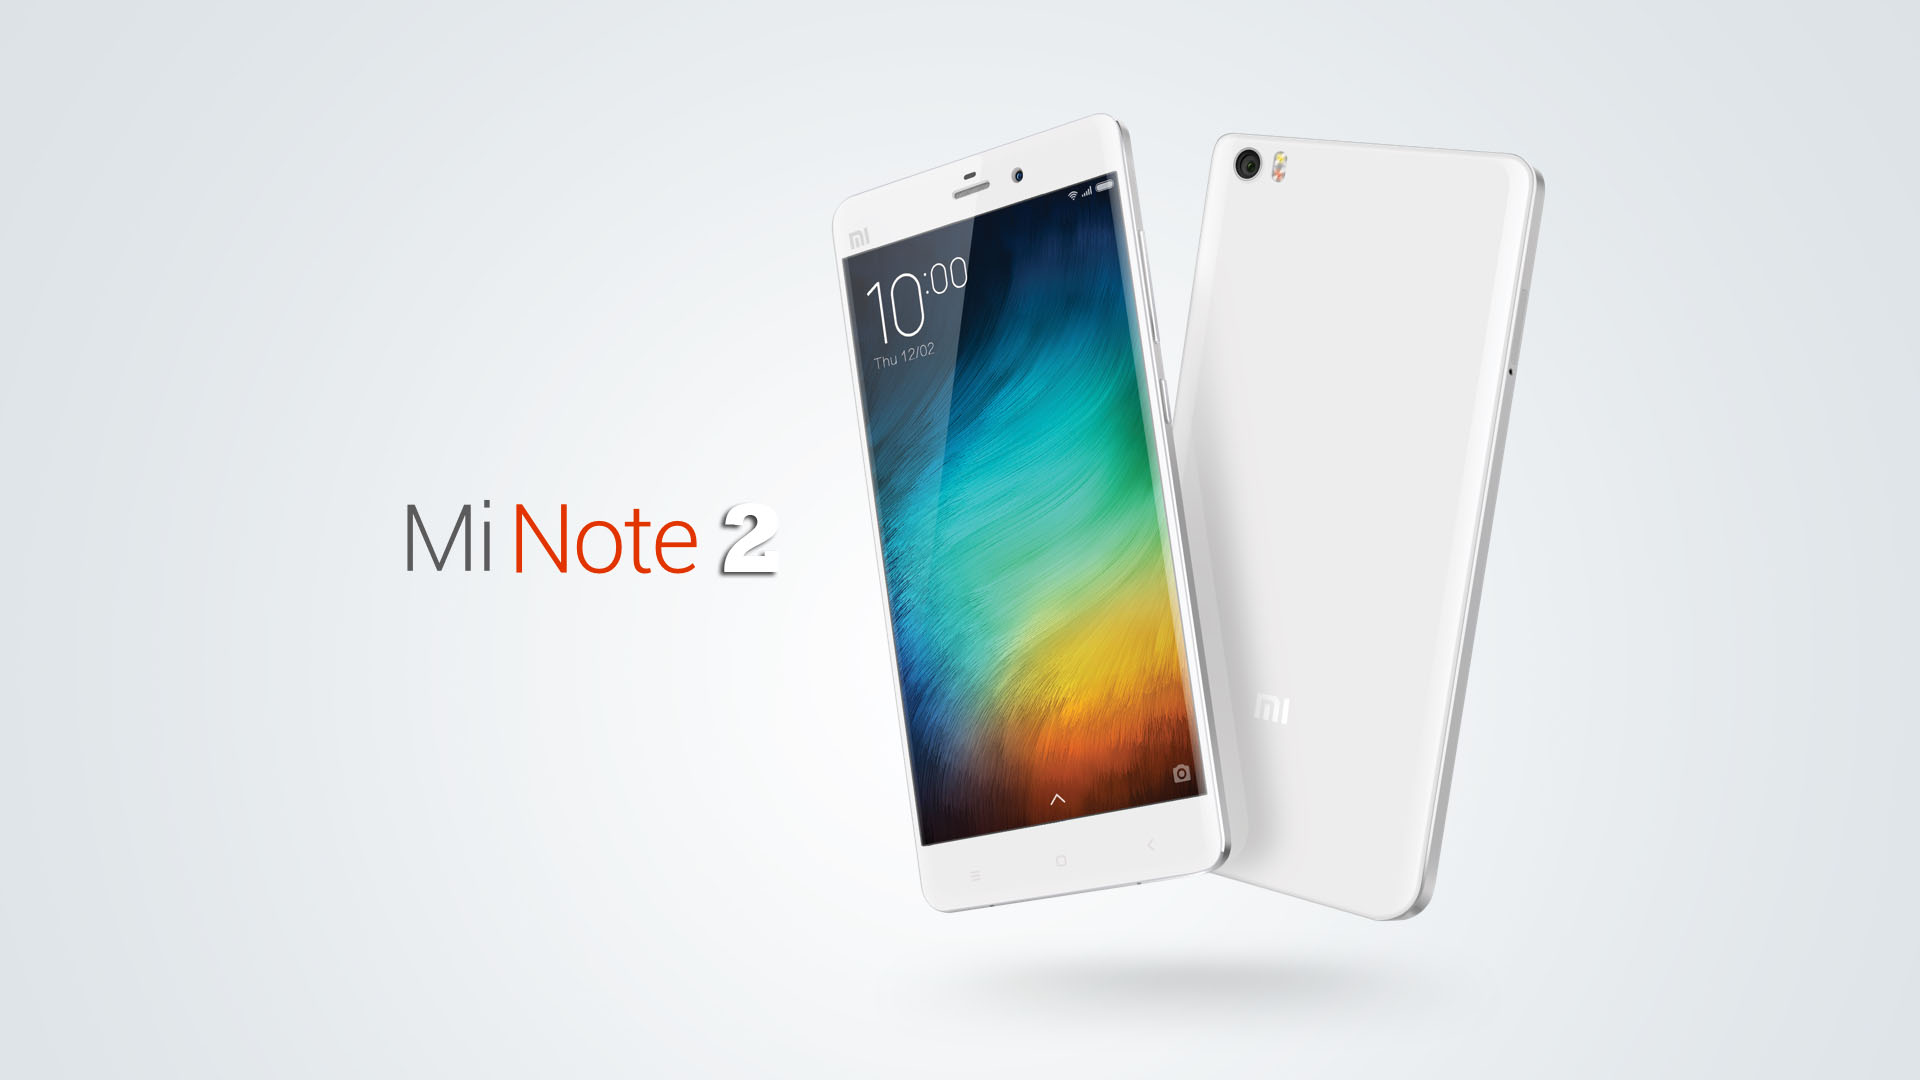smartphone: (831, 112, 1234, 913), (1170, 129, 1545, 920)
